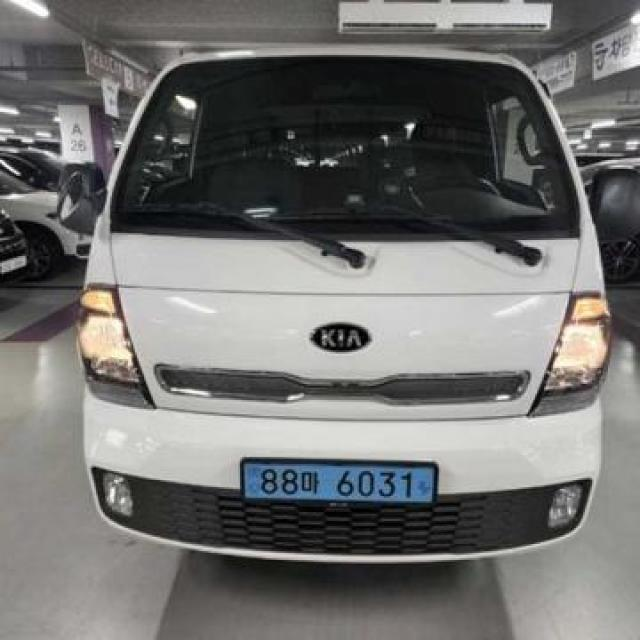EV_plate: (240, 457, 440, 517)
car: (72, 40, 604, 572)
